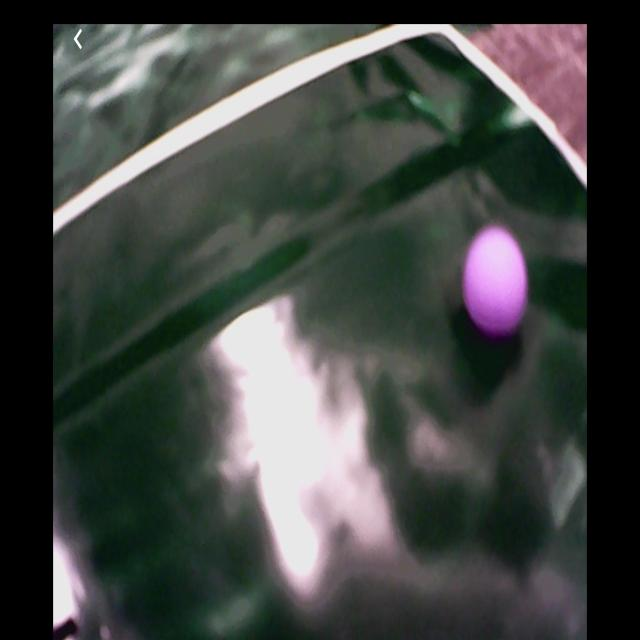ball: (462, 223, 530, 339)
